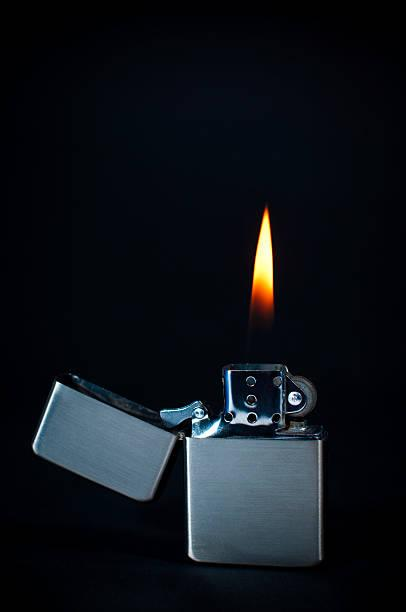Fire: (246, 195, 276, 350)
